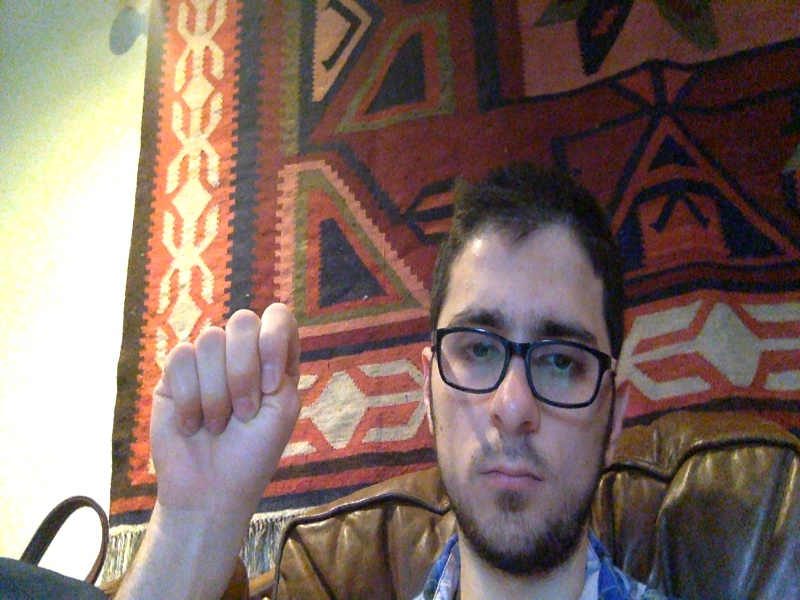0-hand: (149, 303, 302, 512)
